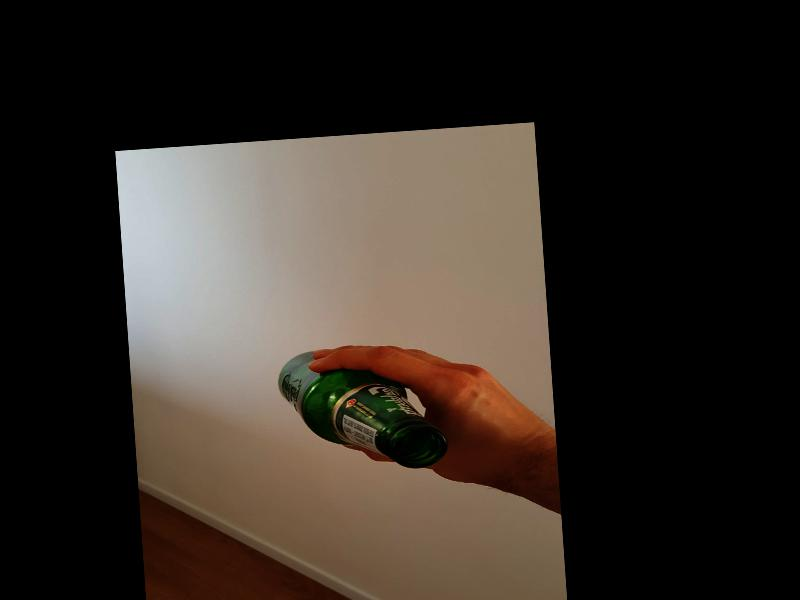Beer: (276, 344, 449, 480)
